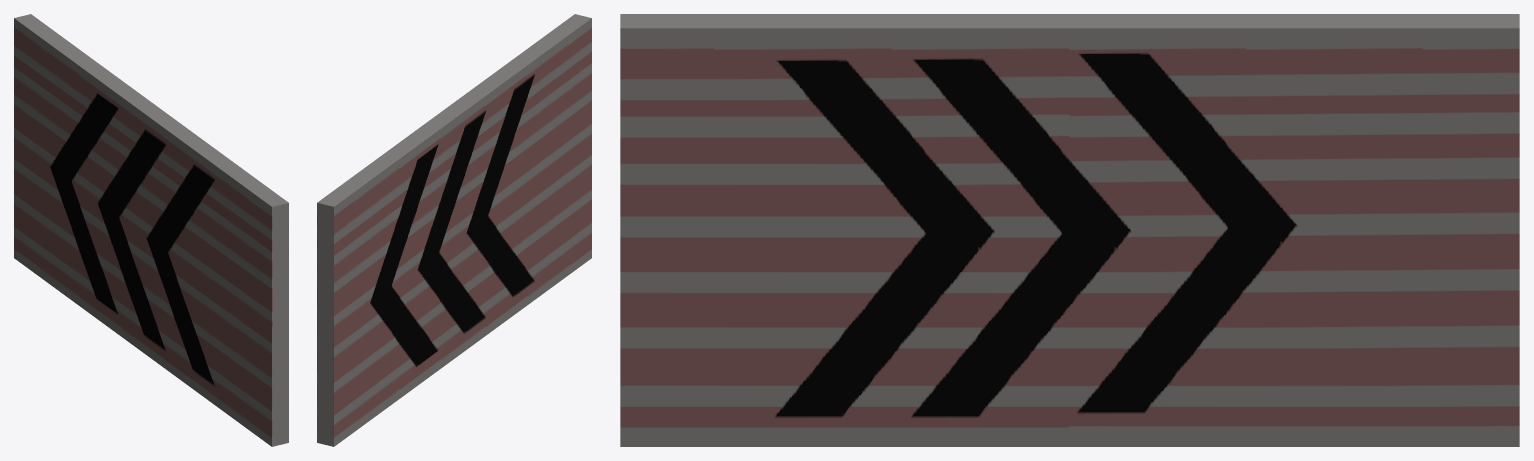
Rendered from WallObject.fbx.
3 views of the same model, side by side, from view 1: azimuth 30°, elevation 25°; view 2: azimuth 150°, elevation 25°; view 3: azimuth 270°, elevation 25° (orthographic). The views are drawn at different scales.
Parts seen in each view (by area): view 1: Cube.001; view 2: Cube.001; view 3: Cube.001.
Boxes of the visible parts, x1,y1,x2,y2 form: Cube.001: (14, 14, 288, 446); Cube.001: (317, 14, 591, 446); Cube.001: (620, 14, 1519, 446).
Bounding box in the file's own units: 2 × 26.99 × 52.58.
1 material, 1 textured.
